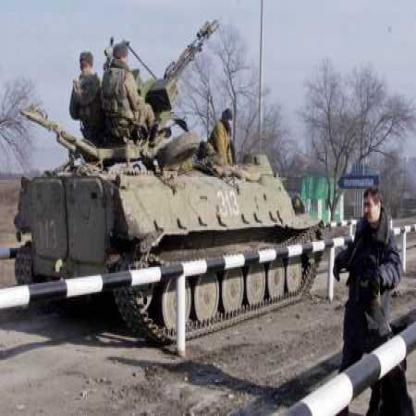MIL_IFV: (10, 47, 326, 344)
